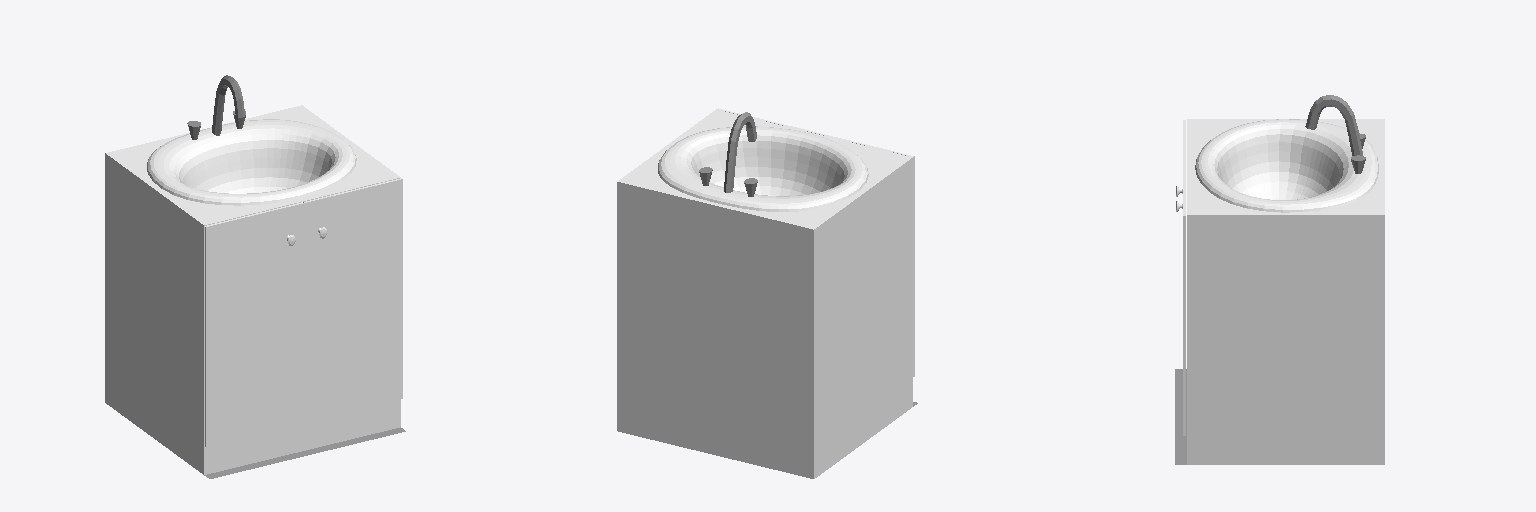
The model's file is labamanos.obj.
The picture shows the model from 3 angles: view 1: azimuth 30°, elevation 25°; view 2: azimuth 150°, elevation 25°; view 3: azimuth 270°, elevation 25°; orthographic projection.
Parts seen in each view (by area): view 1: Corps_8, sweethome3d_opening_on_hinge_1_door_12, sweethome3d_opening_on_hinge_2_door_14, Lavabo_9, ground_1, Robinet_2_7; view 2: Corps_8, Lavabo_9, Robinet_2_7, sweethome3d_opening_on_hinge_1_door_12; view 3: Corps_8, Lavabo_9, Robinet_2_7, ground_1, sweethome3d_opening_on_hinge_2_door_14.
Boxes of the visible parts, x1,y1,x2,y2 form: Corps_8: [105, 105, 400, 474]; sweethome3d_opening_on_hinge_1_door_12: [205, 202, 303, 446]; sweethome3d_opening_on_hinge_2_door_14: [303, 178, 402, 422]; Lavabo_9: [147, 119, 356, 205]; ground_1: [204, 427, 405, 478]; Robinet_2_7: [212, 75, 244, 135]; Corps_8: [617, 109, 912, 478]; Lavabo_9: [658, 126, 868, 211]; Robinet_2_7: [724, 112, 756, 192]; sweethome3d_opening_on_hinge_1_door_12: [815, 132, 914, 376]; Corps_8: [1187, 119, 1384, 464]; Lavabo_9: [1195, 119, 1378, 212]; Robinet_2_7: [1305, 95, 1362, 155]; ground_1: [1175, 369, 1186, 464]; sweethome3d_opening_on_hinge_2_door_14: [1183, 168, 1185, 435].
Size of the model in its own units: 62 by 97 by 57.